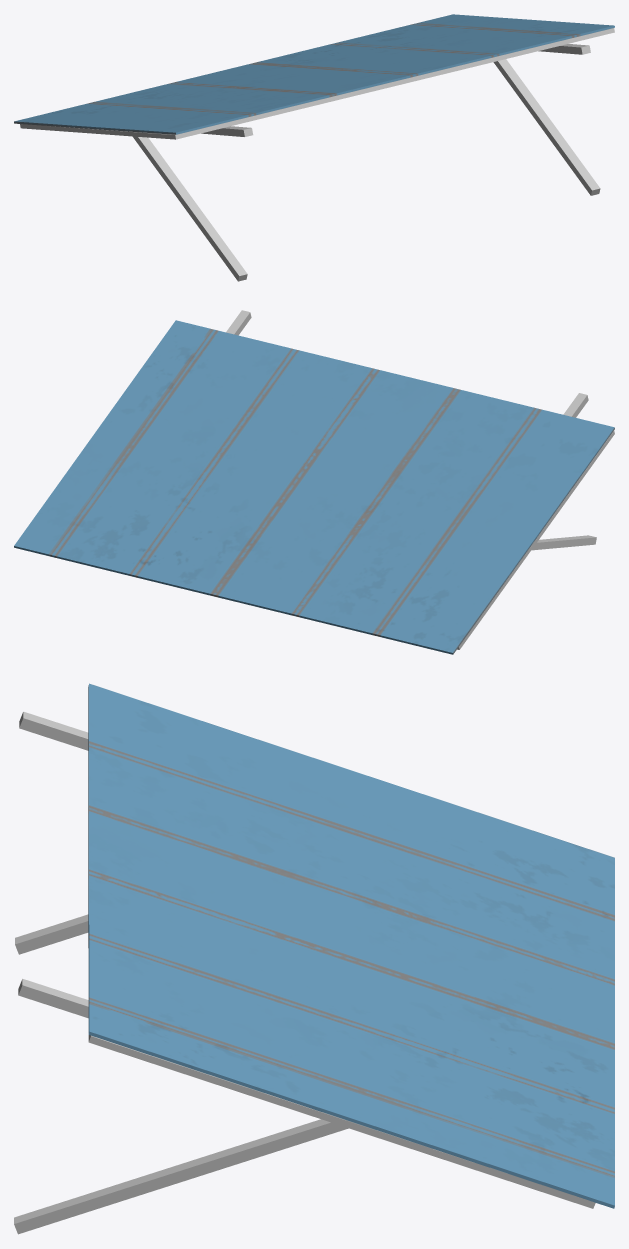
The model's file is mallbil_backalley03c.fbx.
3 views of the same model, one above another, from view 1: azimuth 30°, elevation 25°; view 2: azimuth 150°, elevation 25°; view 3: azimuth 270°, elevation 25° (orthographic). The views are drawn at different scales.
Visible parts, largest first — view 1: mallbil_backalley03c; view 2: mallbil_backalley03c; view 3: mallbil_backalley03c.
Part boxes in pixels (x1,y1,x2,y2): mallbil_backalley03c: (14, 14, 614, 281); mallbil_backalley03c: (14, 310, 614, 654); mallbil_backalley03c: (14, 683, 614, 1234).
Bounding box in the file's own units: 283 × 92 × 206.
